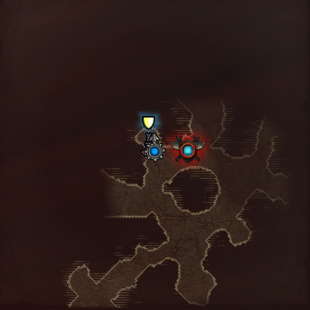ShieldPylon: (140, 113, 158, 155)
